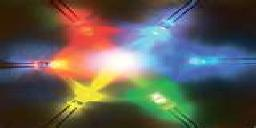LED: (48, 92, 89, 128), (147, 89, 179, 128), (184, 53, 256, 70), (150, 12, 182, 35), (2, 59, 53, 72), (72, 16, 98, 39)
